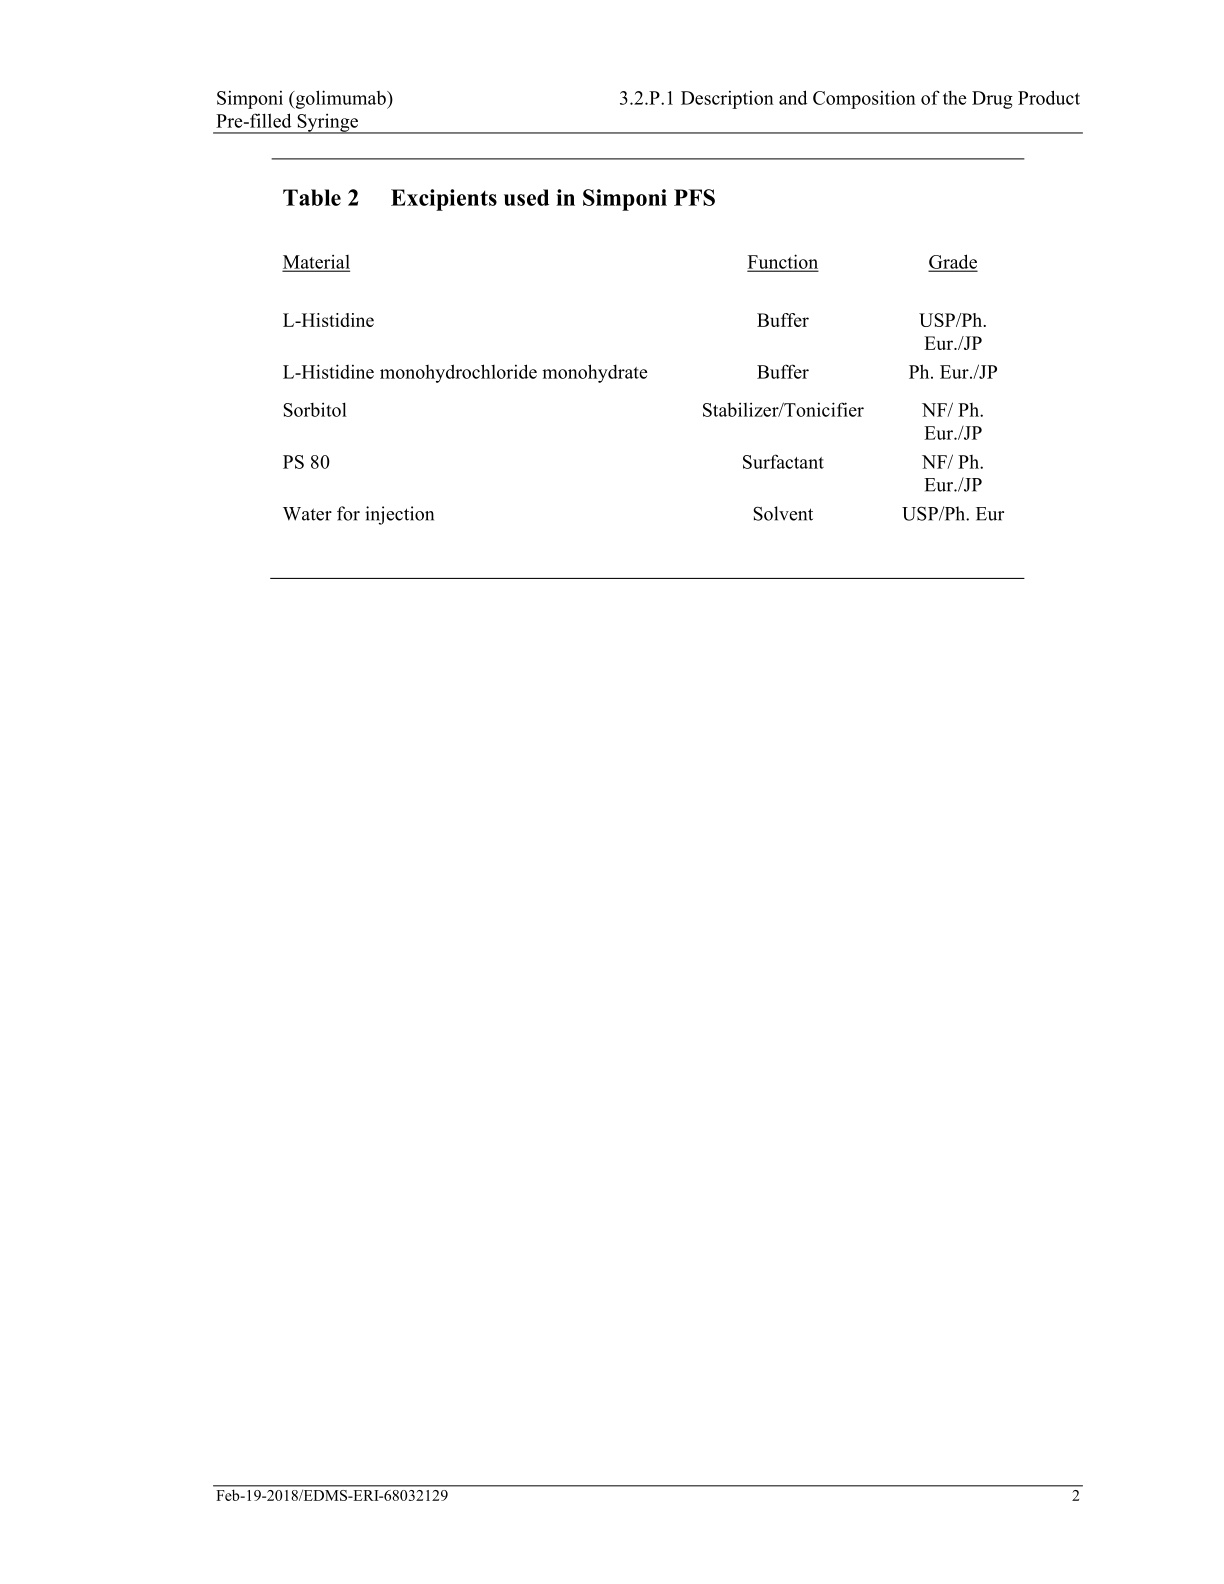nolines: (276, 249, 1008, 528)
